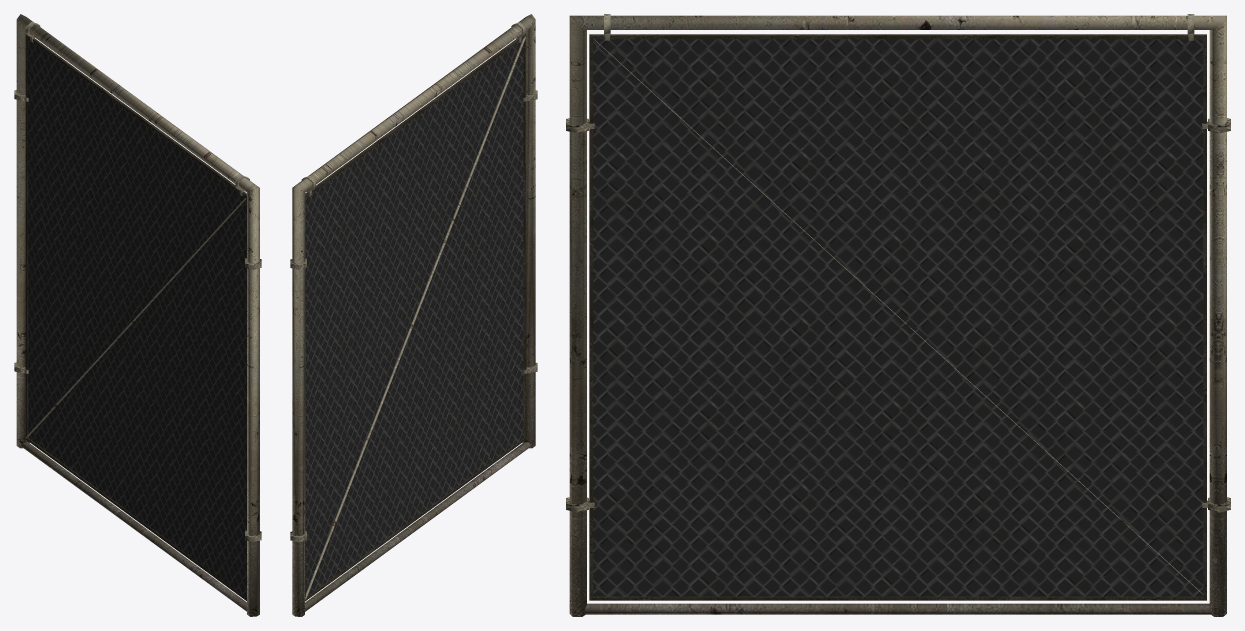
Rendered from interior_fence002c.glb.
The picture shows the model from 3 angles, left to right: view 1: azimuth 30°, elevation 25°; view 2: azimuth 150°, elevation 25°; view 3: azimuth 270°, elevation 25°; orthographic projection. The views are drawn at different scales.
Visible parts, largest first — view 1: 1_fence_alpha, 0_prison_yard001; view 2: 1_fence_alpha, 0_prison_yard001; view 3: 1_fence_alpha, 0_prison_yard001.
Part boxes in pixels (<box>): 1_fence_alpha: <box>28,38,246,596</box>; 0_prison_yard001: <box>14,14,261,616</box>; 1_fence_alpha: <box>306,39,523,595</box>; 0_prison_yard001: <box>290,14,537,616</box>; 1_fence_alpha: <box>593,39,1203,596</box>; 0_prison_yard001: <box>566,14,1230,616</box>.
Size of the model in its own units: 0.1313 by 3.27 by 3.28.
Materials: 2 (2 with a texture image).
